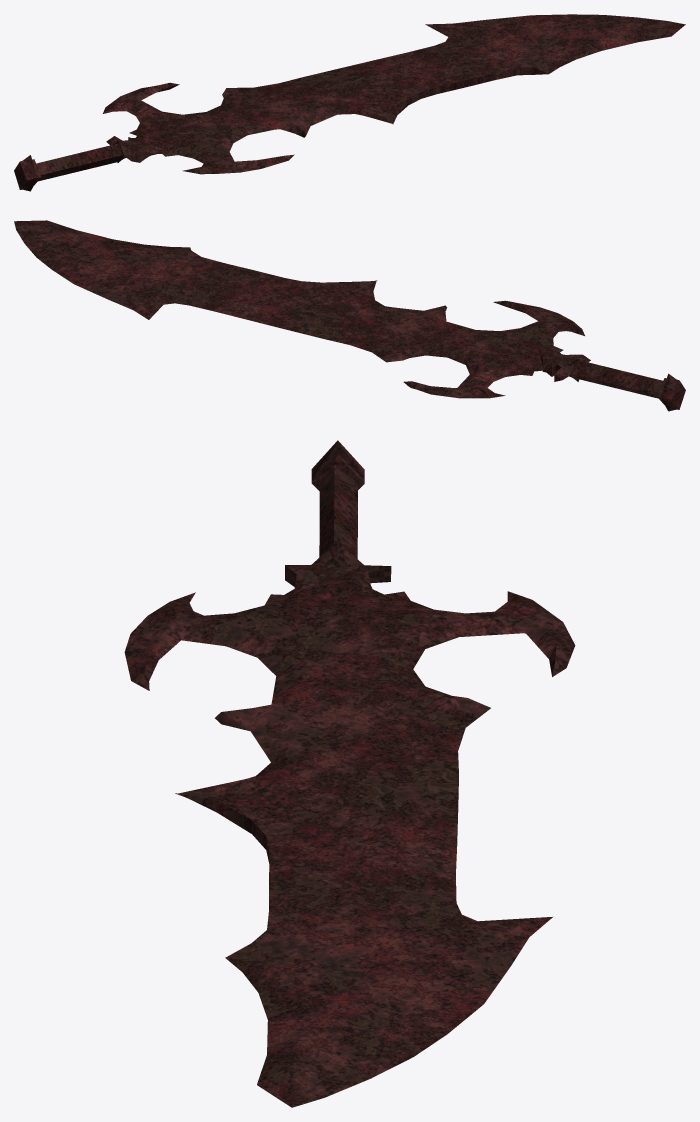
The model's file is MECH 2.fbx.
The picture shows the model from 3 angles, top to bottom: view 1: azimuth 30°, elevation 25°; view 2: azimuth 150°, elevation 25°; view 3: azimuth 270°, elevation 25°; orthographic projection. The views are drawn at different scales.
Visible parts, largest first — view 1: BAKE; view 2: BAKE; view 3: BAKE.
Boxes of the visible parts, x1,y1,x2,y2 form: BAKE: (14, 14, 685, 191); BAKE: (14, 220, 685, 411); BAKE: (124, 440, 575, 1107).
Bounding box in the file's own units: 450 × 24.2 × 134.
